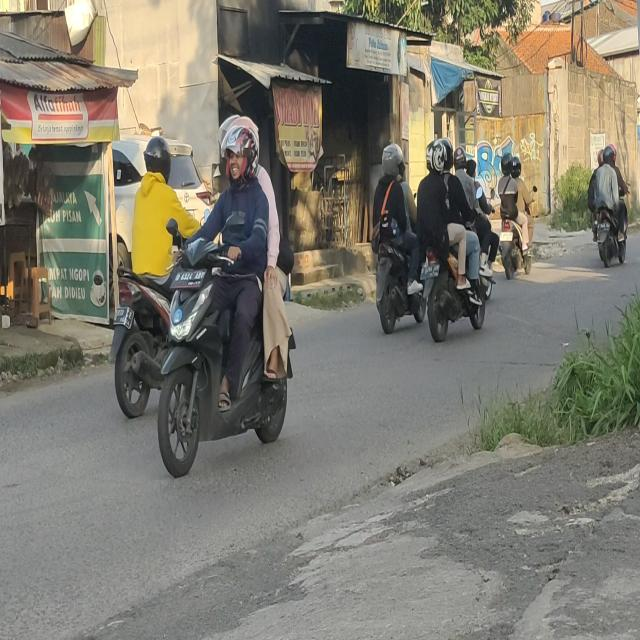helmet: (226, 131, 258, 188), (142, 133, 170, 188), (225, 114, 258, 146), (426, 140, 446, 178), (382, 144, 403, 176), (439, 137, 454, 170), (453, 147, 466, 170), (501, 153, 513, 175), (603, 145, 614, 165), (513, 155, 521, 176), (609, 142, 617, 162), (598, 148, 606, 166)
no-helmet: (467, 160, 477, 179)
